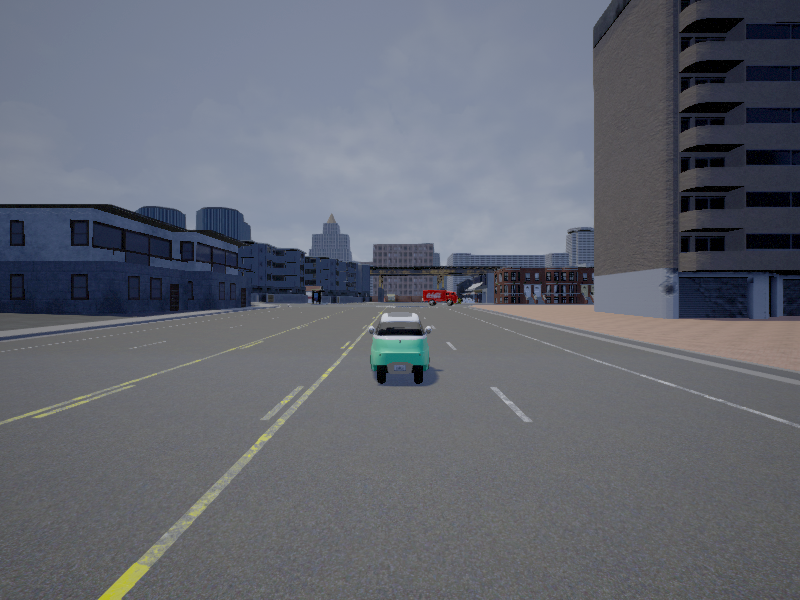Benign: (369, 314, 433, 383), (422, 289, 458, 305)
